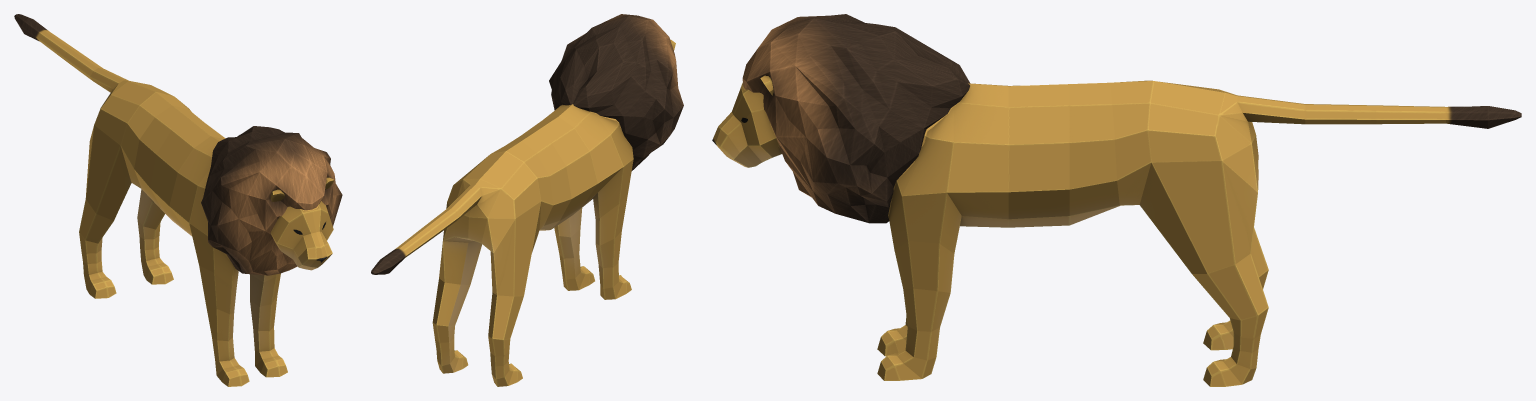
File: lion.glb
The picture shows the model from 3 angles, left to right: view 1: azimuth 30°, elevation 25°; view 2: azimuth 150°, elevation 25°; view 3: azimuth 270°, elevation 25°; orthographic projection. The views are drawn at different scales.
Bounding box in the file's own units: 3.4 × 6.76 × 14.46.
Materials: 1 (1 with a texture image).
